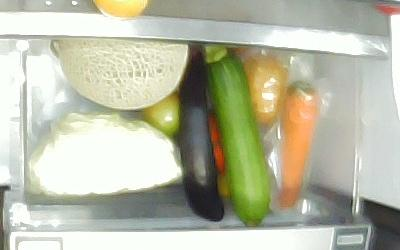cabbage: (29, 110, 184, 200)
carrot_vinyl: (280, 82, 320, 209)
eggplant: (179, 43, 225, 221)
melon: (59, 38, 188, 109)
pear_vinyl: (243, 56, 290, 122)
tomato: (141, 92, 182, 136), (208, 108, 226, 175)
zucchini: (204, 44, 269, 226)
